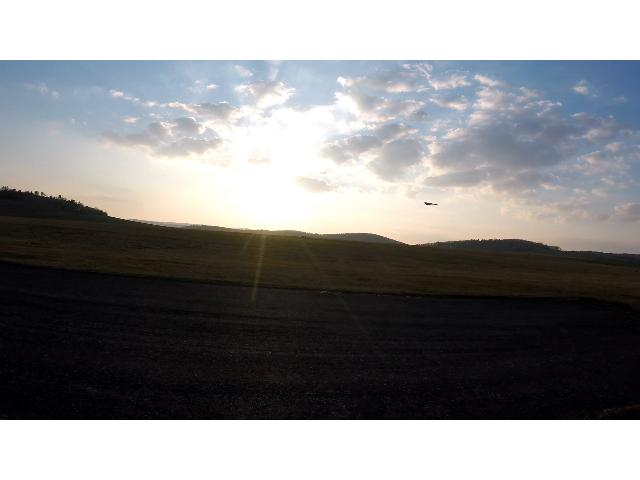Anti-Drone: (424, 202, 438, 206)
